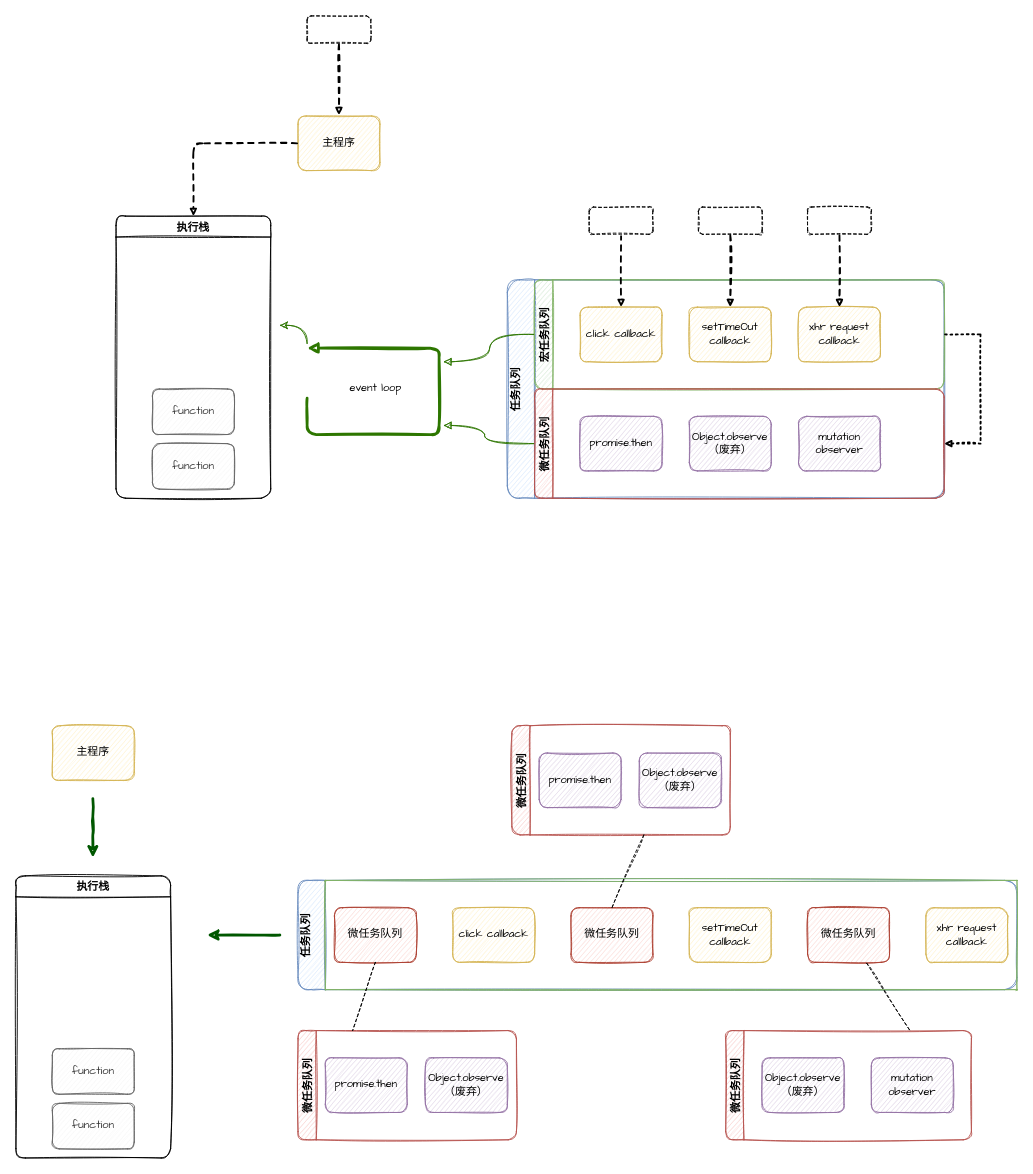
Image size: 1033x1174. Some labels were removed from this diagram. The centre of each missing label's shape, as x and y in pixels:
HTTP请求线程: (x=839, y=220)
主入口程序: (x=338, y=29)
事件触发线程: (x=620, y=220)
定时器触发线程: (x=730, y=220)
